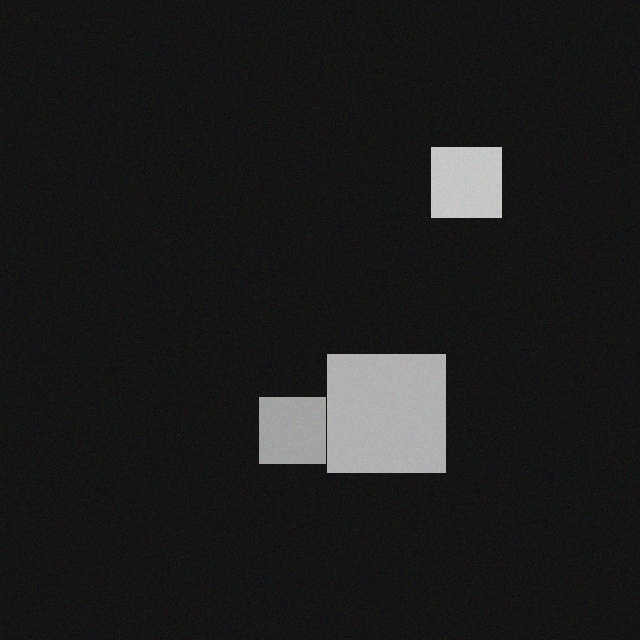square: (334, 345, 452, 463), (438, 138, 508, 208), (266, 388, 332, 454)
